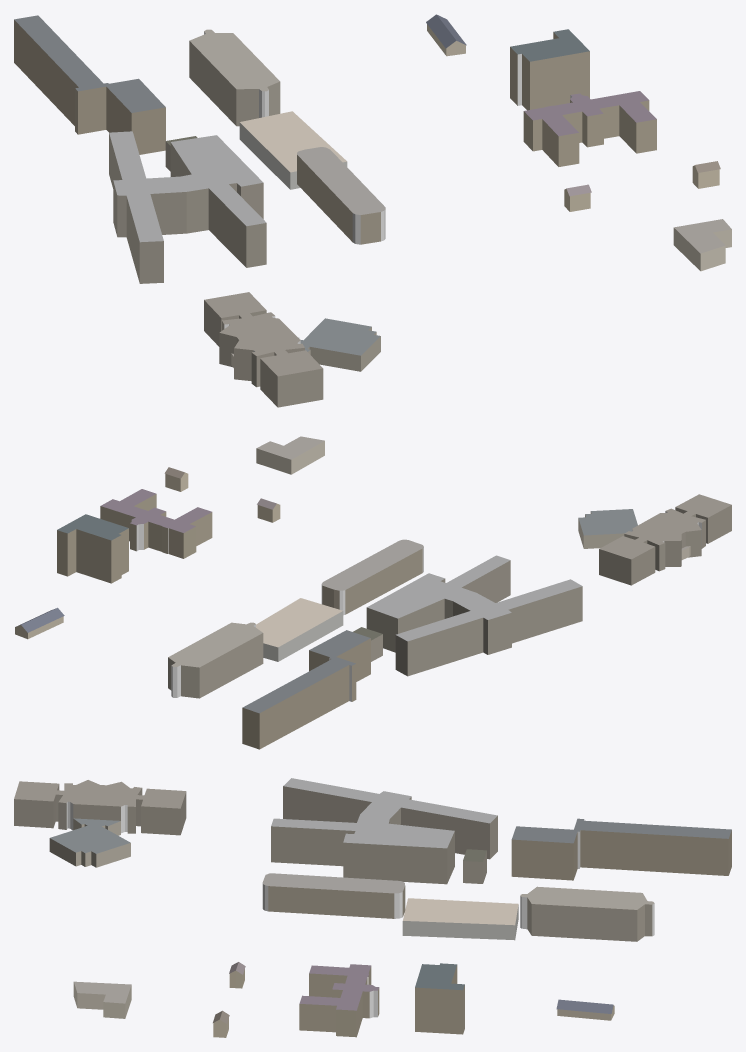
3 renders of one model, top to bottom at view 1: azimuth 30°, elevation 25°; view 2: azimuth 150°, elevation 25°; view 3: azimuth 270°, elevation 25°, orthographic. The views are drawn at different scales.
Visible parts, largest first — view 1: tuile; view 2: tuile; view 3: tuile.
Boxes of the visible parts, x1,y1,x2,y2 form: tuile: [14, 14, 731, 407]; tuile: [15, 436, 731, 749]; tuile: [14, 778, 731, 1037].
Size of the model in its own units: 254 by 26.62 by 326.
